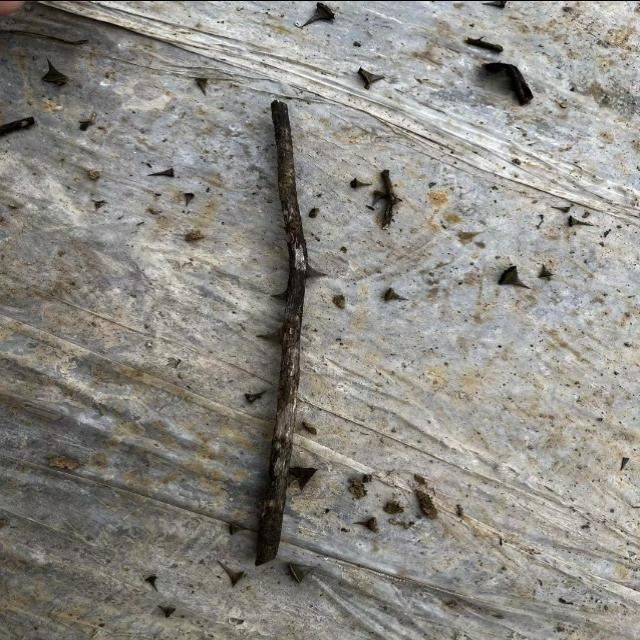branch: (255, 101, 309, 564)
